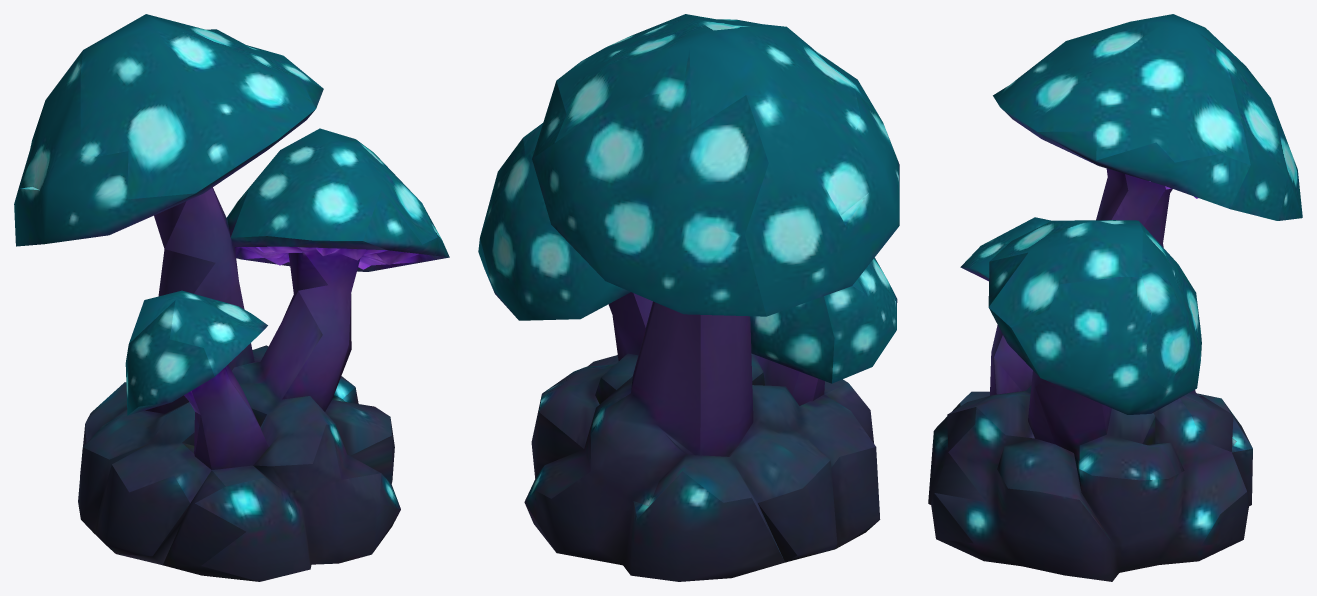
The model's file is d_mycelium_repere.glb.
3 renders of one model, left to right at view 1: azimuth 30°, elevation 25°; view 2: azimuth 150°, elevation 25°; view 3: azimuth 270°, elevation 25°, orthographic. The views are drawn at different scales.
Parts seen in each view (by area): view 1: geometry_0; view 2: geometry_0; view 3: geometry_0.
Boxes of the visible parts, x1=… form: geometry_0: x1=14, y1=14, x2=449, y2=581; geometry_0: x1=478, y1=14, x2=899, y2=581; geometry_0: x1=928, y1=14, x2=1302, y2=581.
Bounding box in the file's own units: 0.8445 × 1 × 0.7243.
1 material, 1 textured.
